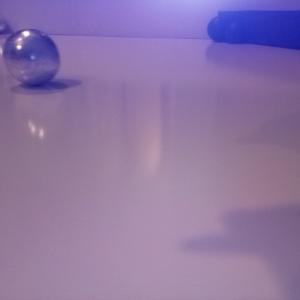alive_ball: (2, 28, 60, 85), (1, 17, 8, 34)
dead_ball: (206, 15, 230, 42), (224, 19, 244, 43)
